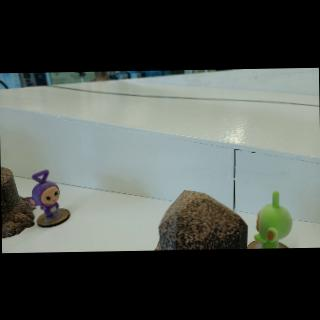teletubby: (254, 191, 292, 248), (28, 170, 59, 218)
